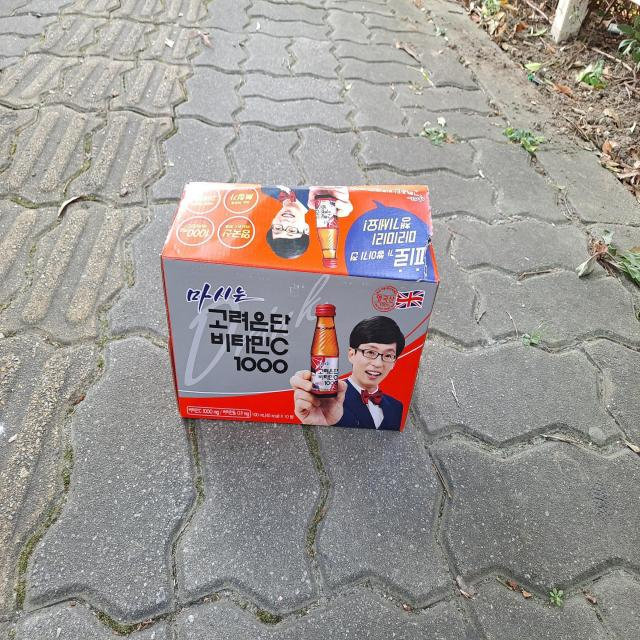paperpack: (161, 181, 440, 430)
